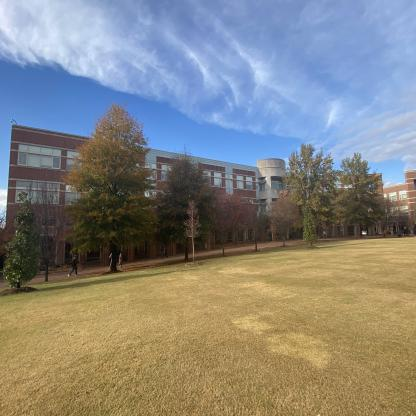EB-1: (7, 105, 410, 272)
